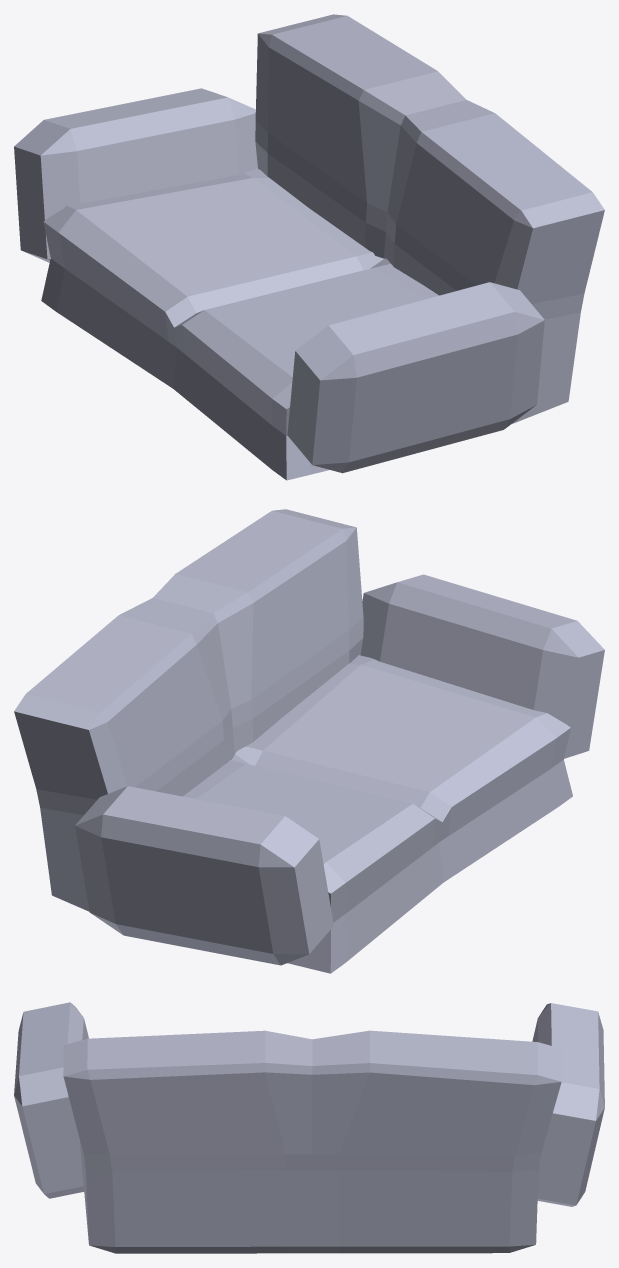
Rendered from couch_grey.fbx.
3 views of the same model, one above another, from view 1: azimuth 30°, elevation 25°; view 2: azimuth 150°, elevation 25°; view 3: azimuth 270°, elevation 25° (orthographic). The views are drawn at different scales.
Visible parts, largest first — view 1: Cube.001; view 2: Cube.001; view 3: Cube.001.
Boxes of the visible parts, bbox=[...] form: Cube.001: bbox=[14, 14, 604, 480]; Cube.001: bbox=[14, 509, 604, 973]; Cube.001: bbox=[14, 1002, 604, 1253].
Size of the model in its own units: 311 by 214 by 565.
